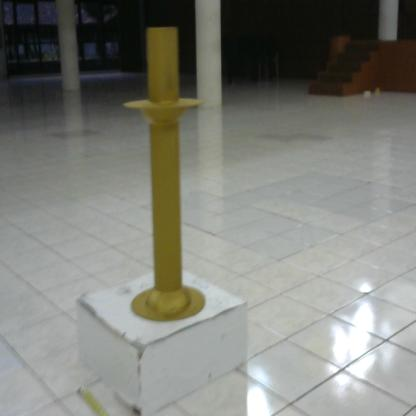pole: (119, 17, 211, 329)
